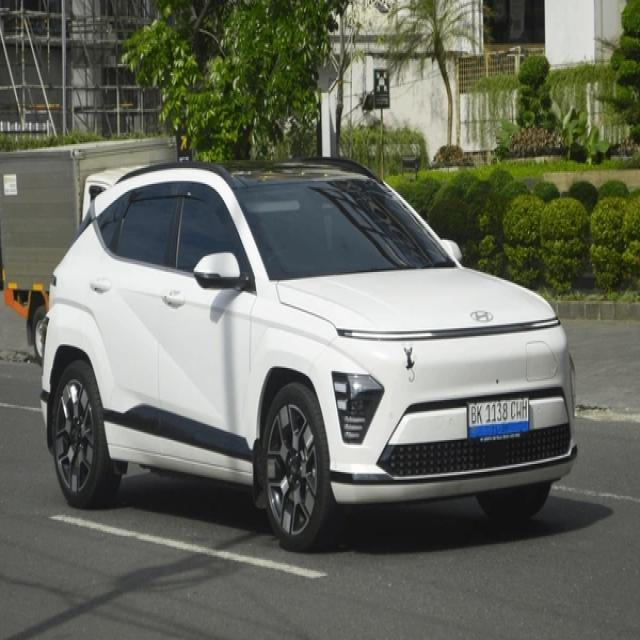hyundai: (471, 306, 493, 328)
